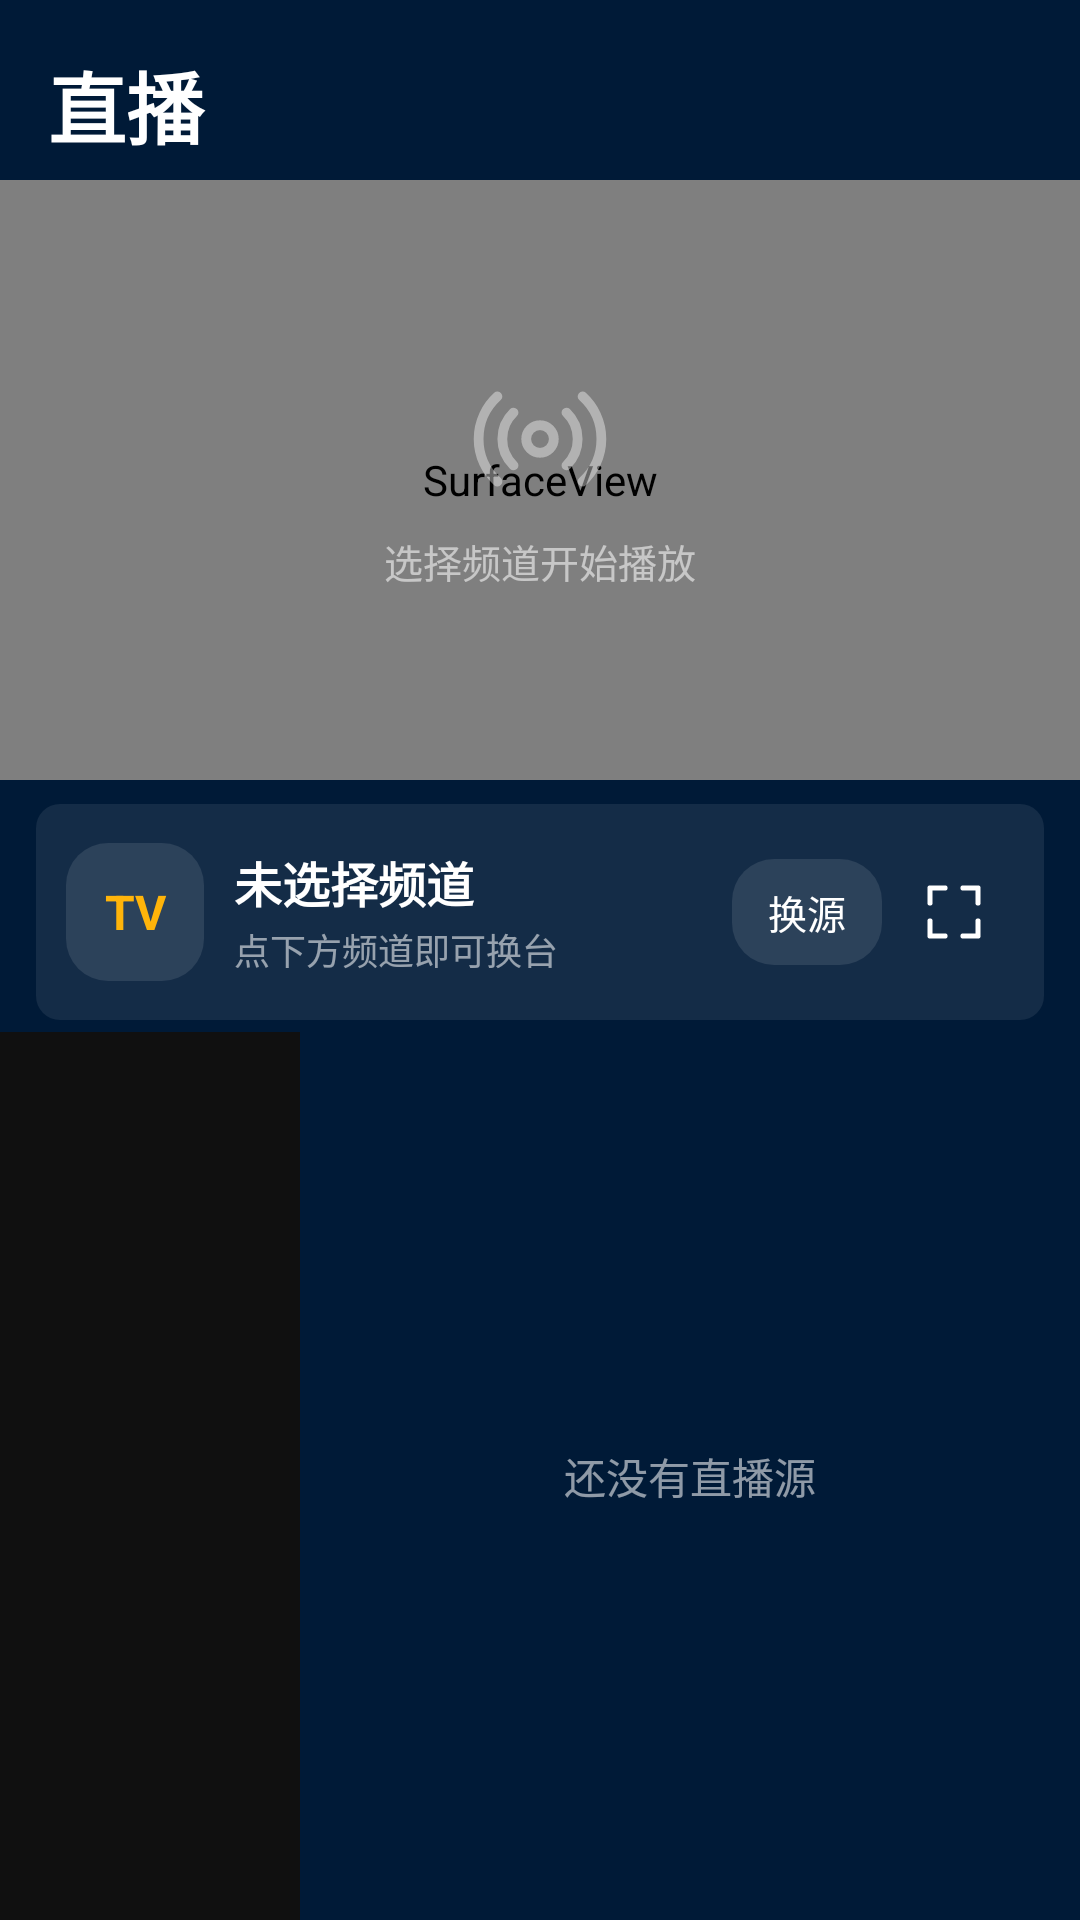

Screen size 1080 x 1920. Icon name, then its box in pixels as region(x1, y1, x2, y2):
expand: region(927, 885, 981, 939)
